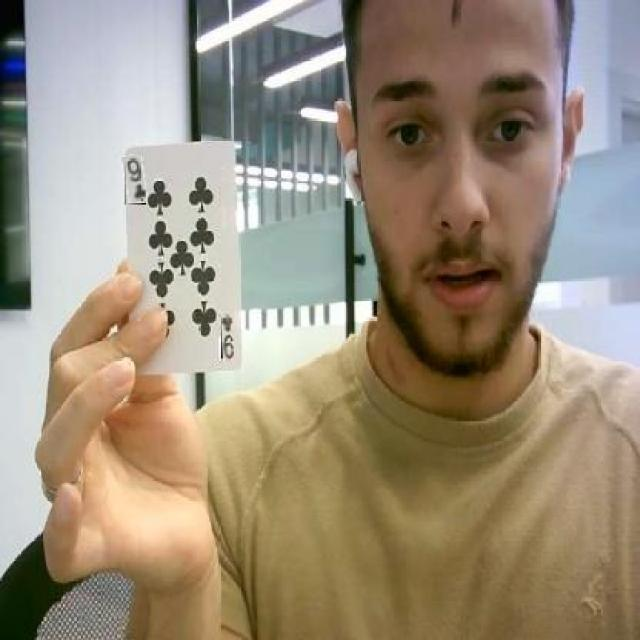9C: (125, 153, 146, 204), (220, 312, 231, 358)
